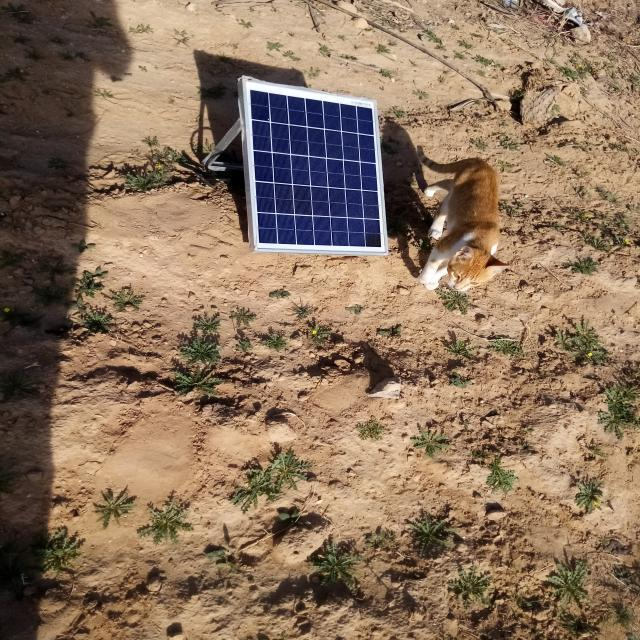no faulty: (243, 80, 388, 253)
